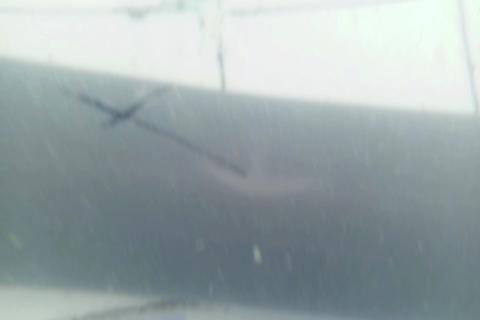keretakan: (61, 81, 251, 182)
